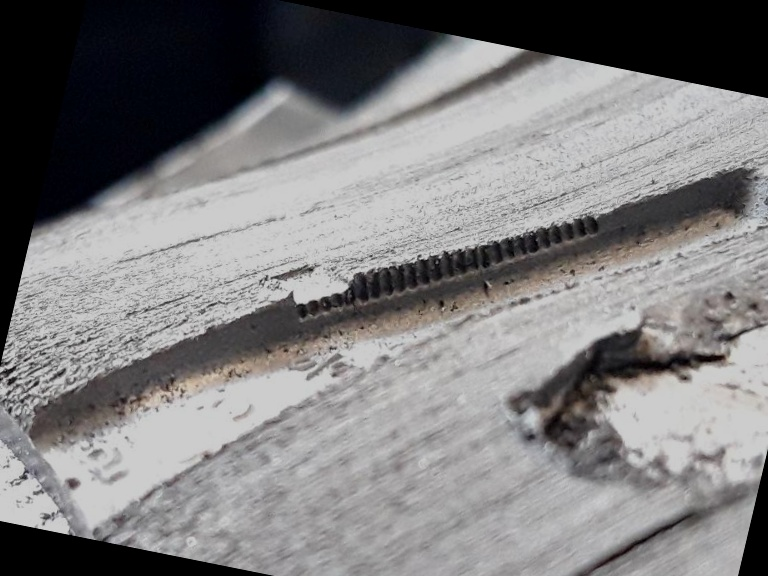temoin:0: (247, 207, 418, 352)
